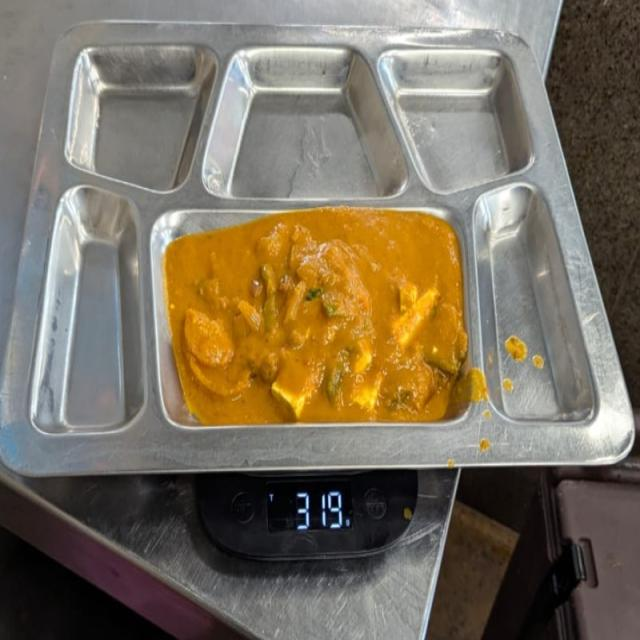Paneer Curry: (162, 207, 469, 429)
